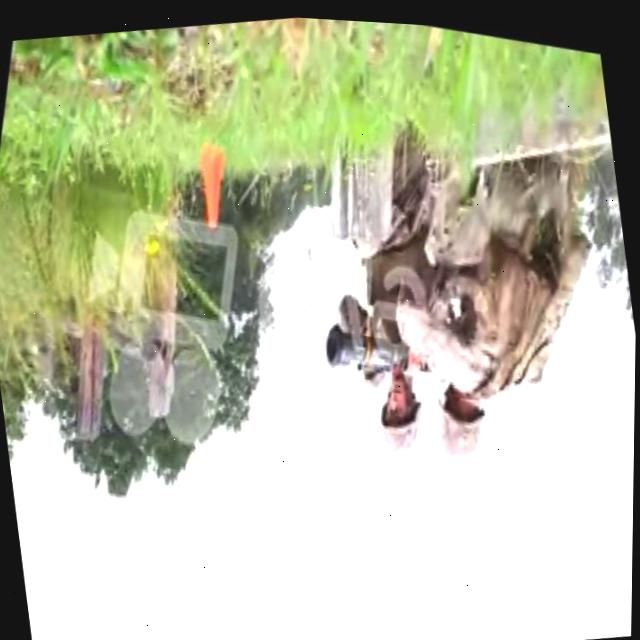rocket: (321, 307, 422, 387)
